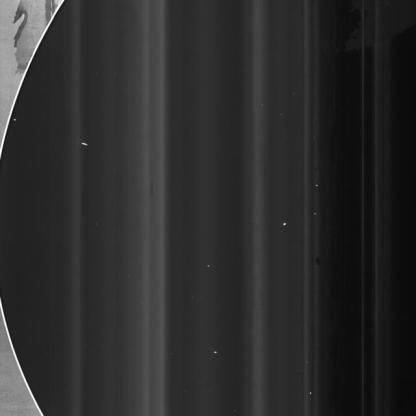crescent_gap: (0, 0, 102, 415)
